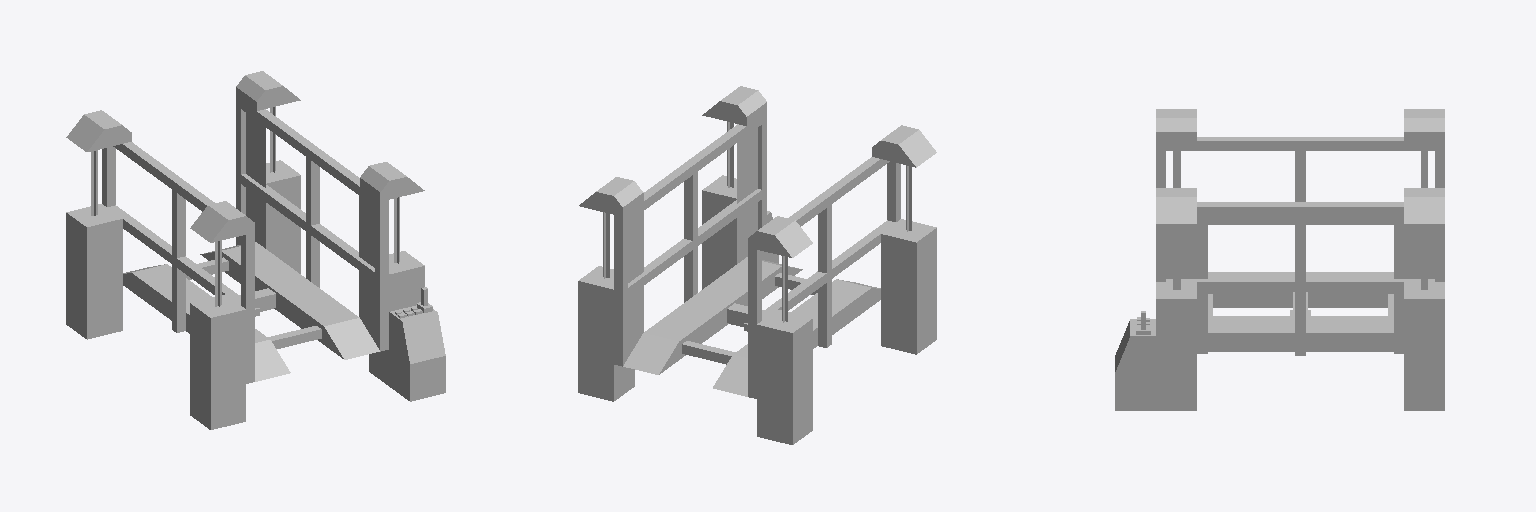
File: benchcarlift.obj
The picture shows the model from 3 angles: view 1: azimuth 30°, elevation 25°; view 2: azimuth 150°, elevation 25°; view 3: azimuth 270°, elevation 25°; orthographic projection.
Parts seen in each view (by area): view 1: cube, ramp, piston2, piston1, pistonhead2, framefence, pistonhead1, chain2, chain1; view 2: cube, ramp, piston1, piston2, framefence, pistonhead2, pistonhead1, chain2, chain1; view 3: cube, ramp, framefence, piston2, piston1, pistonhead2, chain2, pistonhead1, chain1.
Part boxes in pixels (x1,y1,x2,y2): cube: (66, 71, 445, 429); ramp: (123, 242, 379, 381); piston2: (66, 185, 424, 354); piston1: (66, 224, 300, 392); pistonhead2: (66, 160, 424, 326); framefence: (246, 113, 374, 341); pistonhead1: (66, 217, 294, 364); chain2: (91, 134, 399, 306); chain1: (91, 107, 399, 271); cube: (578, 86, 936, 444); ramp: (623, 257, 880, 396); piston1: (578, 239, 936, 407); piston2: (578, 200, 936, 370); framefence: (628, 128, 757, 356); pistonhead2: (578, 175, 936, 342); pistonhead1: (578, 232, 936, 379); chain2: (603, 150, 911, 322); chain1: (603, 122, 911, 286); cube: (1115, 109, 1444, 410); ramp: (1208, 272, 1393, 351); framefence: (1166, 216, 1434, 353); piston2: (1156, 308, 1444, 335); piston1: (1156, 346, 1444, 373); pistonhead2: (1156, 282, 1444, 307); chain2: (1173, 168, 1427, 289); pistonhead1: (1156, 336, 1444, 345); chain1: (1173, 151, 1427, 254).
Bounding box in the file's own units: 6 × 5.5 × 8.